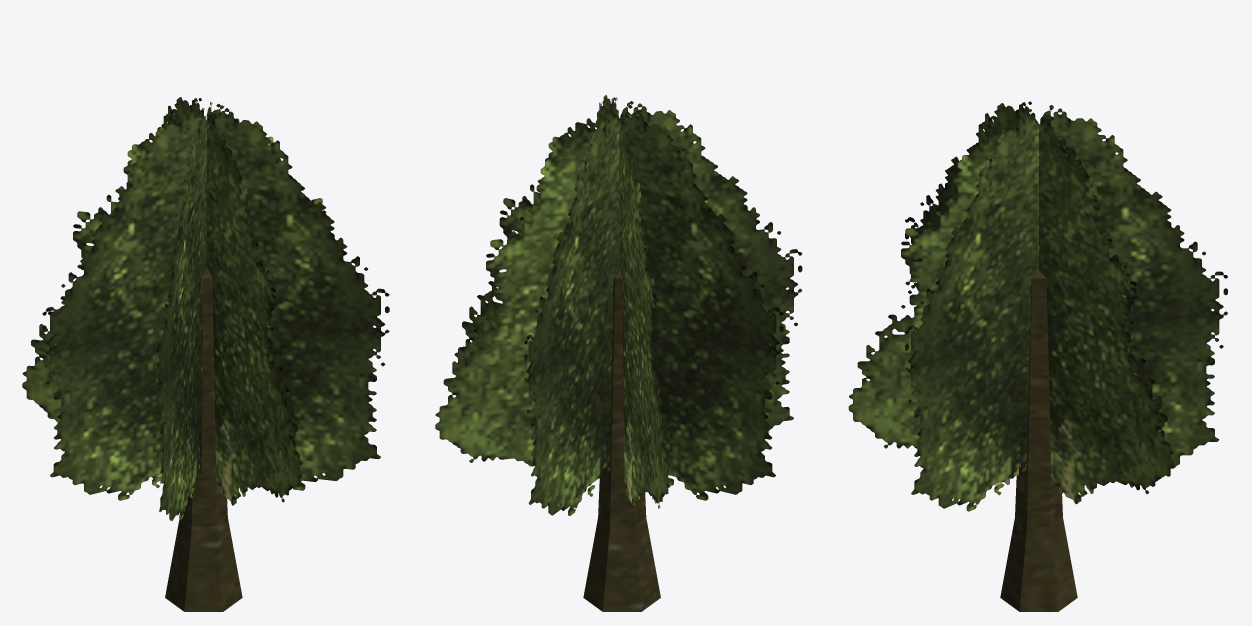
File: tree25.glb
3 renders of one model, left to right at view 1: azimuth 30°, elevation 25°; view 2: azimuth 150°, elevation 25°; view 3: azimuth 270°, elevation 25°, orthographic.
Parts seen in each view (by area): view 1: tree25; view 2: tree25; view 3: tree25.
Part boxes in pixels (x1,y1,x2,y2): tree25: (22, 97, 389, 611); tree25: (435, 95, 802, 611); tree25: (848, 101, 1227, 611).
Bounding box in the file's own units: 8.99 × 12.5 × 8.99.
1 material, 1 textured.
